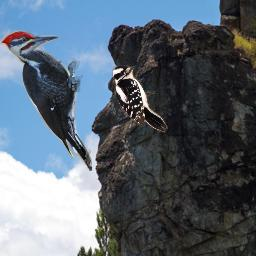Woodpecker: (0, 30, 92, 171), (112, 65, 168, 134)
